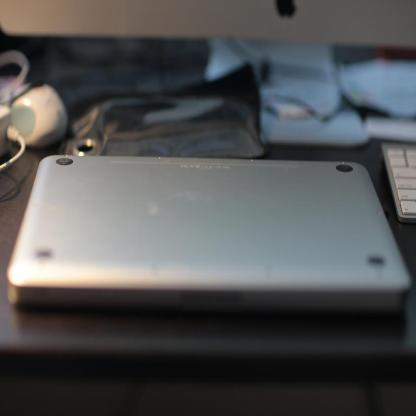board: (7, 155, 414, 309)
